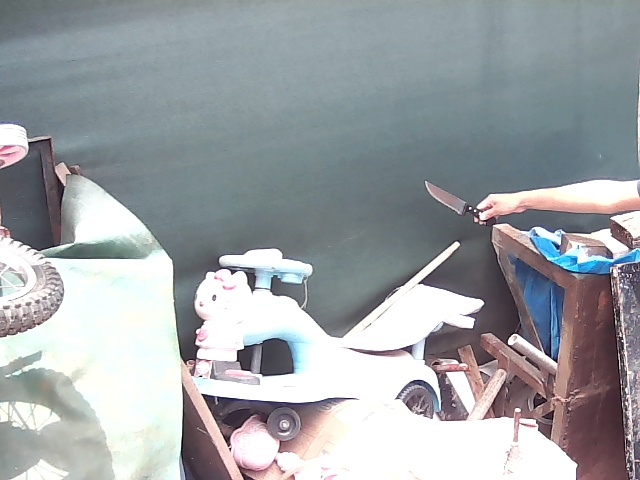cuchillo: (422, 179, 484, 223)
